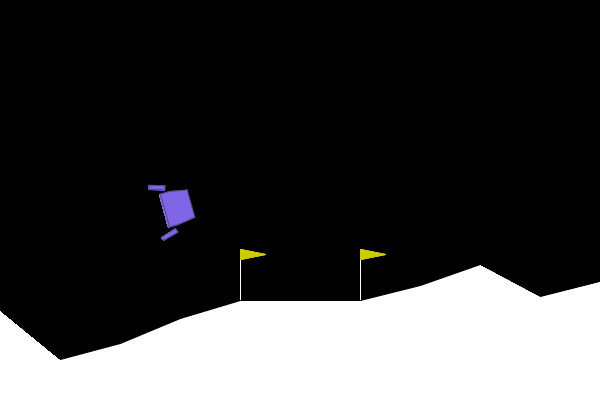lander: (146, 174, 200, 243)
